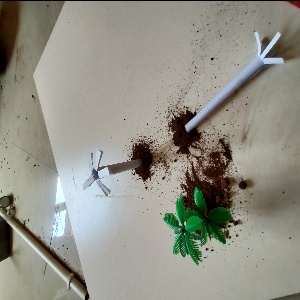plant: (162, 186, 237, 264)
weed: (180, 26, 288, 137), (75, 146, 144, 196)
